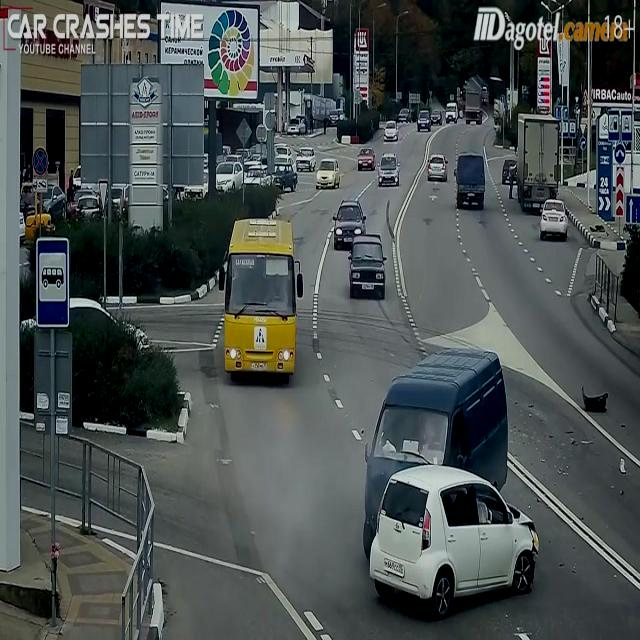accident: (360, 346, 542, 624)
non-accident: (514, 112, 572, 242), (332, 198, 388, 302), (214, 146, 266, 194), (357, 148, 401, 188), (416, 106, 444, 134)
